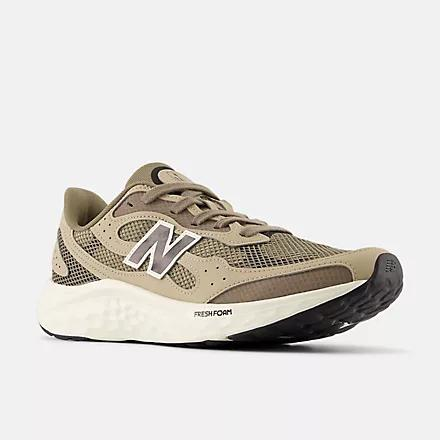NB logo: (117, 209, 209, 285)
